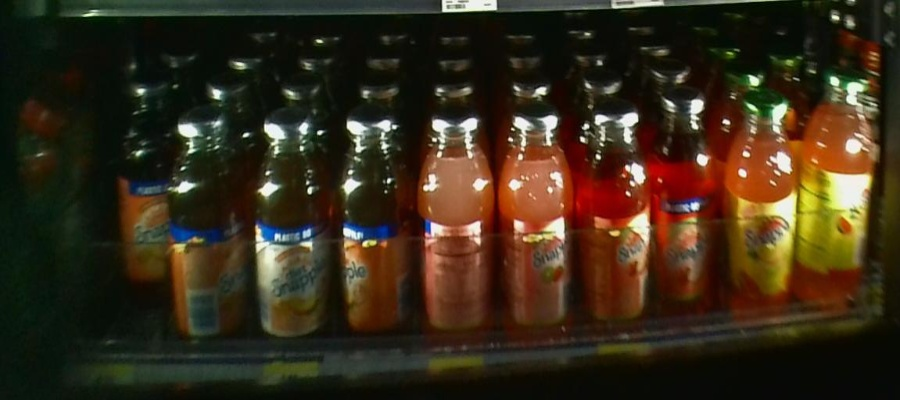bottle: (411, 107, 496, 337), (249, 104, 330, 341), (717, 79, 798, 315), (500, 104, 579, 344), (168, 105, 246, 341), (335, 100, 408, 341), (579, 102, 651, 333), (805, 63, 875, 300), (651, 86, 717, 317), (116, 72, 167, 283)
